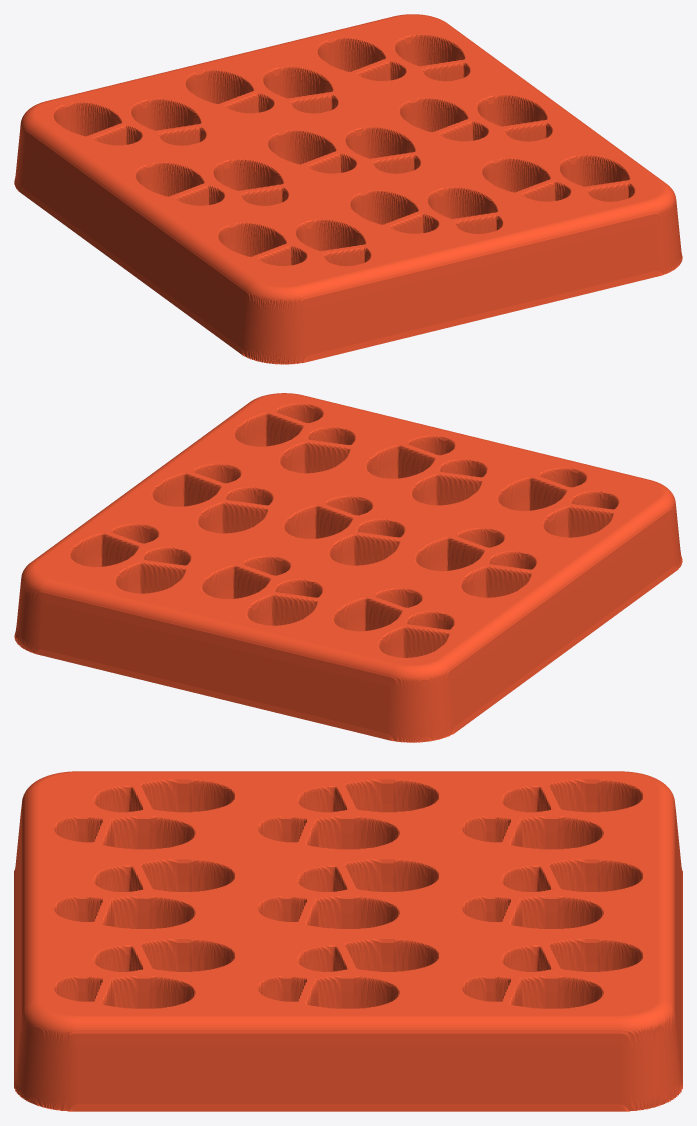
The model's file is mold.glb.
3 views of the same model, one above another, from view 1: azimuth 30°, elevation 25°; view 2: azimuth 150°, elevation 25°; view 3: azimuth 270°, elevation 25° (orthographic). The views are drawn at different scales.
Visible parts, largest first — view 1: geometry_0; view 2: geometry_0; view 3: geometry_0.
Boxes of the visible parts, x1,y1,x2,y2 form: geometry_0: [14, 14, 682, 364]; geometry_0: [14, 393, 682, 742]; geometry_0: [14, 771, 682, 1111].
Bounding box in the file's own units: 0.0898 × 0.0136 × 0.0964.
